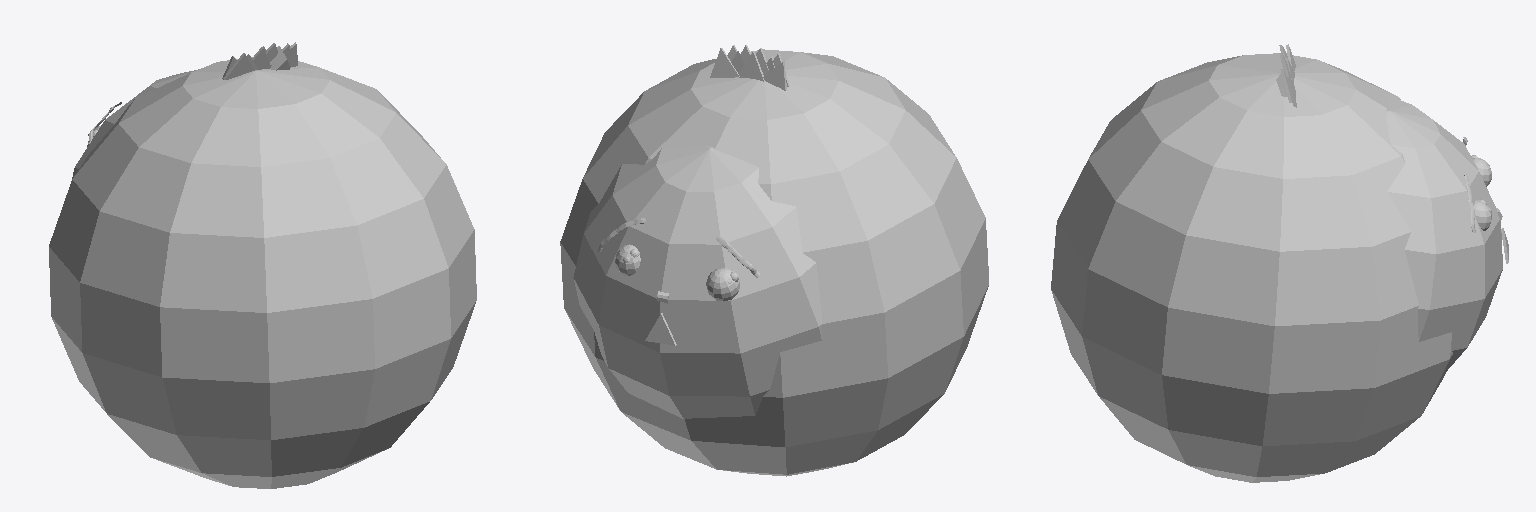
Rendered from puff_ball_model.obj.
3 views of the same model, side by side, from view 1: azimuth 30°, elevation 25°; view 2: azimuth 150°, elevation 25°; view 3: azimuth 270°, elevation 25° (orthographic).
Size of the model in its own units: 0.7297 by 0.7828 by 0.7837.